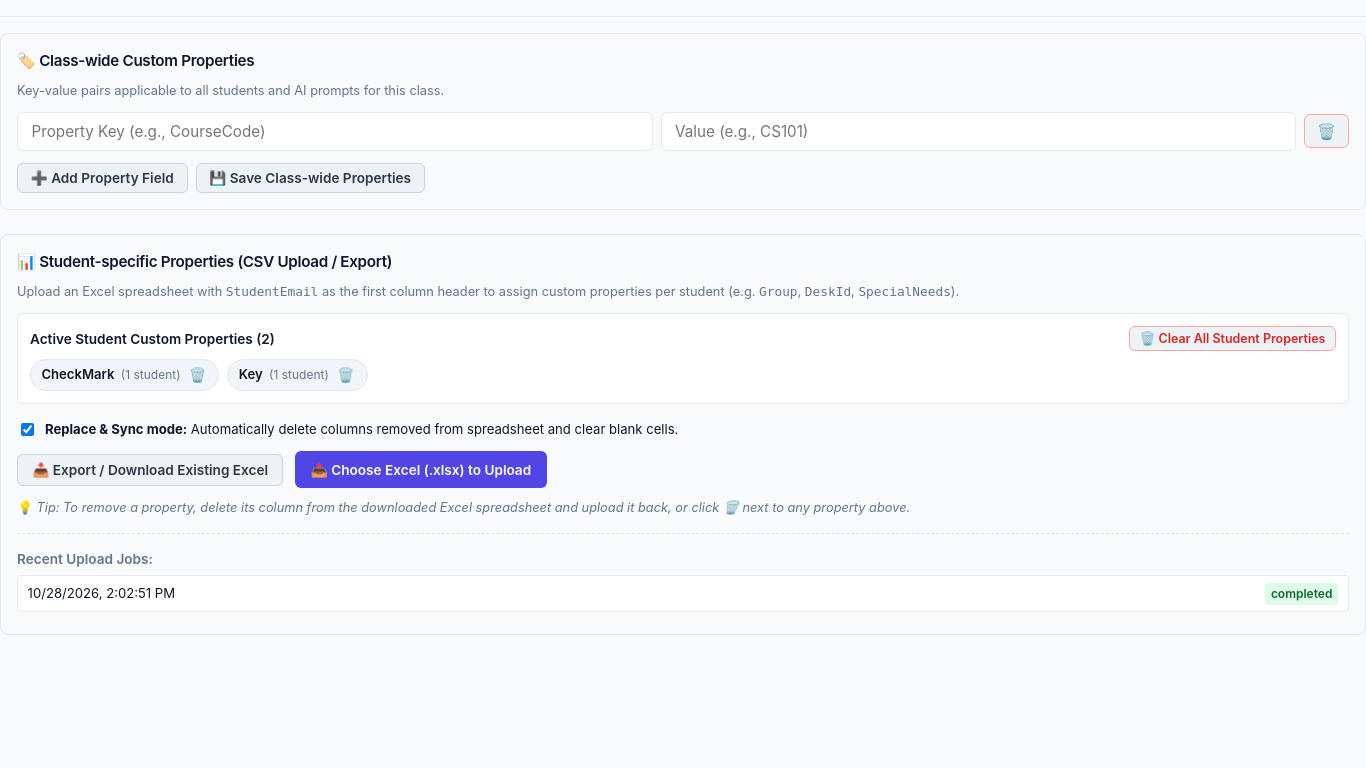
it: CustomPropertiesManager Component › handles clearing all student-specific custom properties
This screenshot has width=1366, height=768.
Expected: the text "Key" is shown, left=239, top=365, right=263, bottom=385
Expected: the text "CheckMark" is shown, left=41, top=365, right=114, bottom=385
Click the button "🗑️ Clear All Student Properties".
click(1233, 339)  # box left=1129, top=326, right=1336, bottom=351
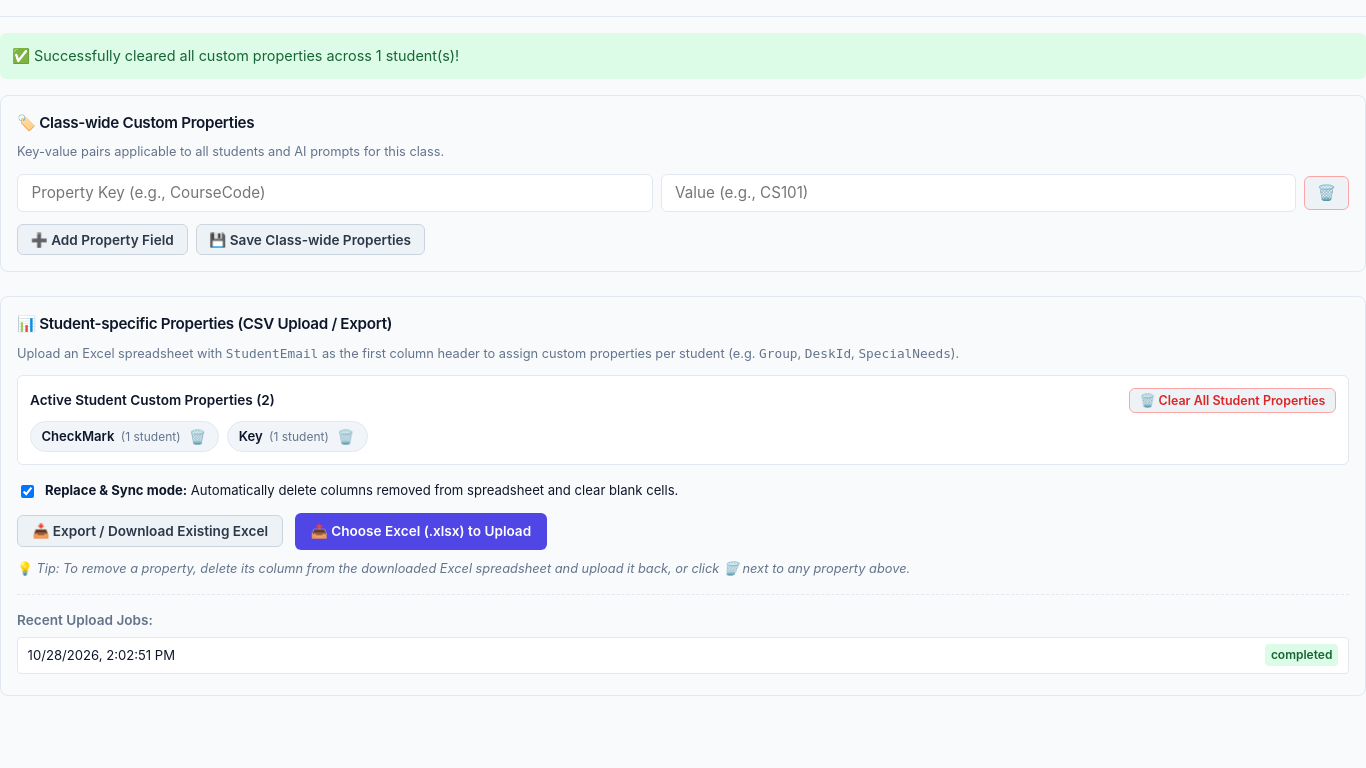
Now the text "Successfully cleared all custom properties" is shown, box left=34, top=47, right=459, bottom=64
